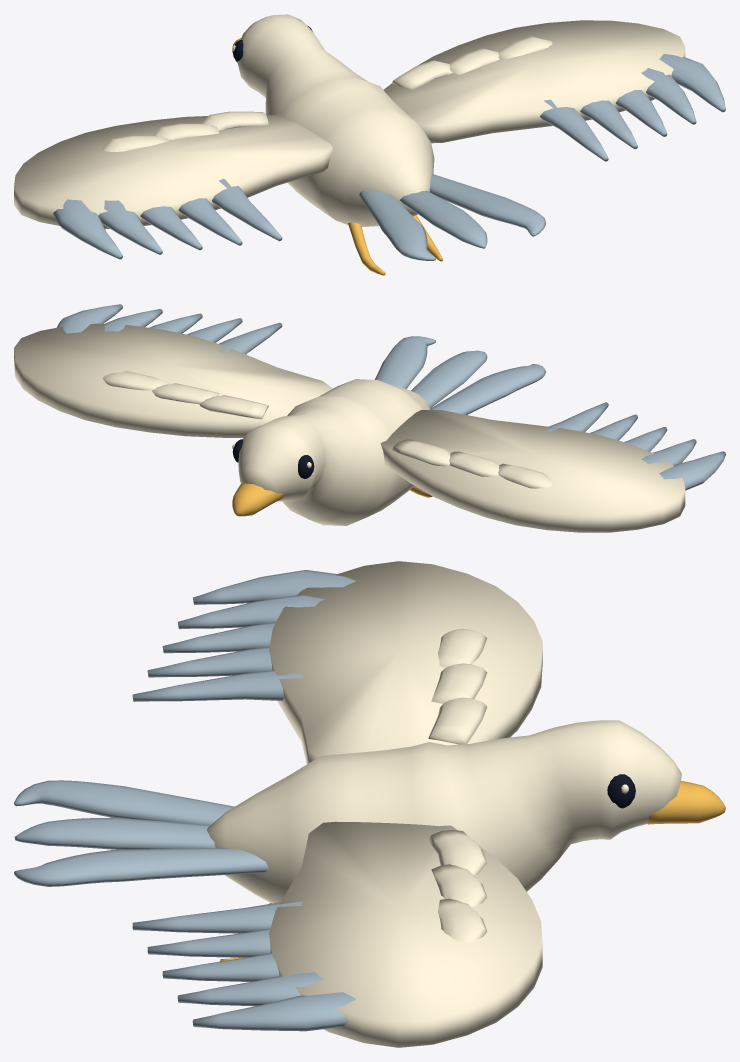
File: Seagull.glb
The picture shows the model from 3 angles, top to bottom: view 1: azimuth 30°, elevation 25°; view 2: azimuth 150°, elevation 25°; view 3: azimuth 270°, elevation 25°; orthographic projection. The views are drawn at different scales.
Parts seen in each view (by area): view 1: Seagull__WingL, Seagull__WingR, Seagull__Body; view 2: Seagull__WingL, Seagull__WingR, Seagull__Body; view 3: Seagull__Body, Seagull__WingR, Seagull__WingL.
Part boxes in pixels (x1=…): Seagull__WingL: x1=14, y1=111, x2=332, y2=259; Seagull__WingR: x1=383, y1=20, x2=725, y2=161; Seagull__Body: x1=232, y1=14, x2=546, y2=275; Seagull__WingL: x1=380, y1=402, x2=725, y2=532; Seagull__WingR: x1=14, y1=304, x2=332, y2=437; Seagull__Body: x1=232, y1=336, x2=545, y2=525; Seagull__Body: x1=14, y1=720, x2=725, y2=961; Seagull__WingR: x1=132, y1=821, x2=542, y2=1047; Seagull__WingL: x1=132, y1=561, x2=542, y2=764.
Size of the model in its own units: 2.83 by 0.6297 by 1.84.
Materials: 1 (1 with a texture image).
